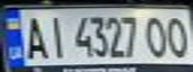2: (106, 12, 127, 59)
3: (87, 12, 109, 59)
4: (69, 12, 90, 60)
7: (121, 12, 142, 59)
A: (18, 12, 48, 61)
I: (42, 12, 69, 60)
O: (163, 12, 193, 60), (142, 12, 172, 59)
